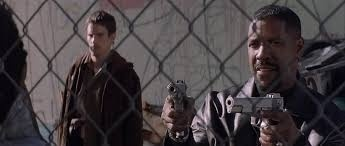pistol: (222, 95, 286, 130), (164, 78, 195, 105)
